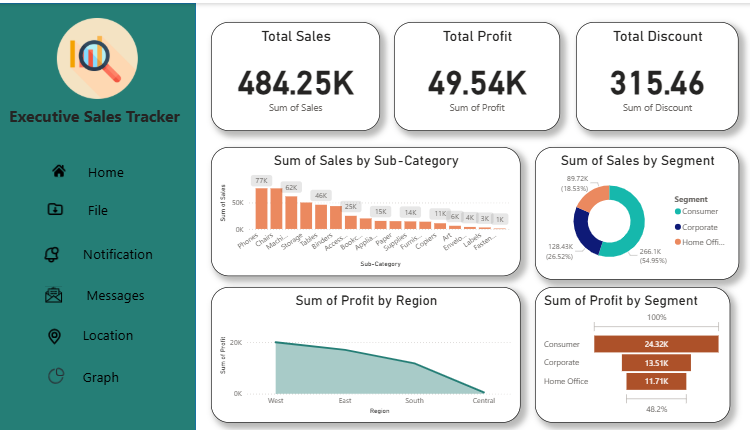

Layout of this report page (visuals, bound fields, positions):
{"tool":"powerbi","page":{"name":"overview","canvas":[1280,720],"ordinal":0},"visuals":[{"type":"shape","box":[0,0,330.9,720.6],"z":0},{"type":"actionButton","box":[85.7,258.7,30.2,47],"z":1000},{"type":"actionButton","box":[75.6,319.2,42,53.8],"z":2000},{"type":"actionButton","box":[68.9,396.4,57.1,53.8],"z":3000},{"type":"actionButton","box":[73.9,467,52.1,45.4],"z":4000},{"type":"actionButton","box":[73.9,540.9,58.8,38.6],"z":5000},{"type":"actionButton","box":[77.3,606.4,52.1,38.6],"z":6000},{"type":"card","title":"Total Sales","fields":{"Values":["Sum(Sheet1.Sales)"]},"box":[356.1,31.9,283.9,183.1],"z":7000},{"type":"card","title":"Total Profit","fields":{"Values":["Sum(Sheet1.Profit)"]},"box":[663.5,31.9,278.8,183.1],"z":8000},{"type":"card","title":"Total Discount","fields":{"Values":["Sum(Sheet1.Discount)"]},"box":[970,31.7,273.3,183.3],"z":9000},{"type":"columnChart","fields":{"Y":["Sum(Sheet1.Sales)"],"Category":["Sheet1.Sub-Category"]},"box":[356.7,241.7,520,216.7],"z":10000},{"type":"donutChart","fields":{"Category":["Sheet1.Segment"],"Y":["Sum(Sheet1.Sales)"]},"box":[900,241.7,343.3,223.3],"z":11000},{"type":"areaChart","fields":{"Y":["Sum(Sheet1.Profit)"],"Category":["Sheet1.Region"]},"box":[356.7,476.7,520,228.3],"z":12000},{"type":"funnel","fields":{"Category":["Sheet1.Segment"],"Y":["Sum(Sheet1.Profit)"]},"box":[900,476.7,328.3,228.3],"z":13000},{"type":"actionButton","box":[68.9,396.4,262,47],"z":14000},{"type":"actionButton","box":[60.5,322.5,211.7,47],"z":15000},{"type":"actionButton","box":[73.9,258.7,211.7,47],"z":16000},{"type":"actionButton","box":[60.5,465.3,270.4,47],"z":17000},{"type":"actionButton","box":[68.9,532.5,228.5,47],"z":18000},{"type":"actionButton","box":[70.6,603,201.6,47],"z":19000},{"type":"image","box":[72.2,20.2,186.5,146.1],"z":20000},{"type":"textbox","box":[11.8,166.3,304,48.7],"z":21000}]}

Visuals, with their boxes in screenshot pixels (x1, y1, x2, y2), scaled from the page's 1280x720 canvas onto the 750x430 screenshot:
shape: detection(0, 0, 194, 429)
actionButton: detection(50, 155, 68, 183)
actionButton: detection(44, 191, 69, 223)
actionButton: detection(40, 237, 74, 269)
actionButton: detection(43, 279, 74, 306)
actionButton: detection(43, 323, 78, 346)
actionButton: detection(45, 362, 76, 385)
"Total Sales" card: detection(209, 19, 375, 128)
"Total Profit" card: detection(389, 19, 552, 128)
"Total Discount" card: detection(568, 19, 728, 128)
columnChart - Sum(Sheet1.Sales) x Sheet1.Sub-Category: detection(209, 144, 514, 274)
donutChart - Sheet1.Segment x Sum(Sheet1.Sales): detection(527, 144, 728, 278)
areaChart - Sum(Sheet1.Profit) x Sheet1.Region: detection(209, 285, 514, 421)
funnel - Sheet1.Segment x Sum(Sheet1.Profit): detection(527, 285, 720, 421)
actionButton: detection(40, 237, 194, 265)
actionButton: detection(35, 193, 159, 221)
actionButton: detection(43, 155, 167, 183)
actionButton: detection(35, 278, 194, 306)
actionButton: detection(40, 318, 174, 346)
actionButton: detection(41, 360, 159, 388)
image: detection(42, 12, 152, 99)
textbox: detection(7, 99, 185, 128)
